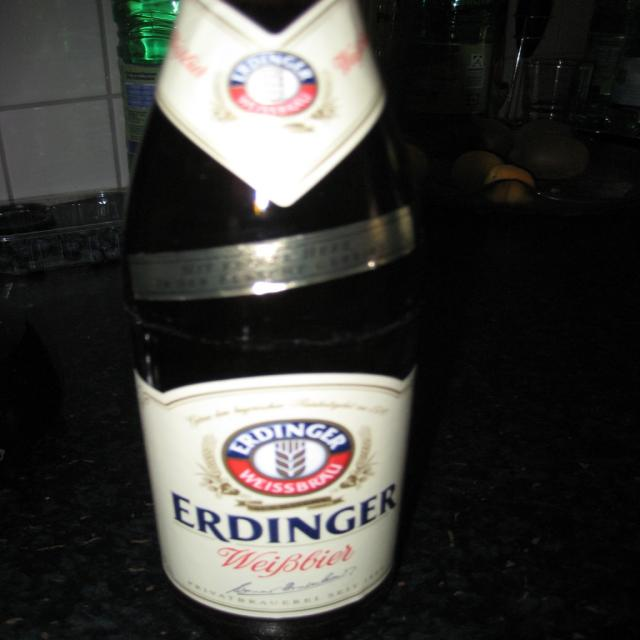erdinger: (168, 397, 407, 549), (217, 47, 338, 135)
